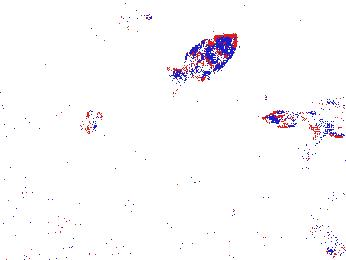X-ray fish: (91, 1, 160, 40), (181, 32, 238, 76)
red belly glassfish: (309, 221, 346, 256)
redtail glassfish: (259, 98, 346, 148)
